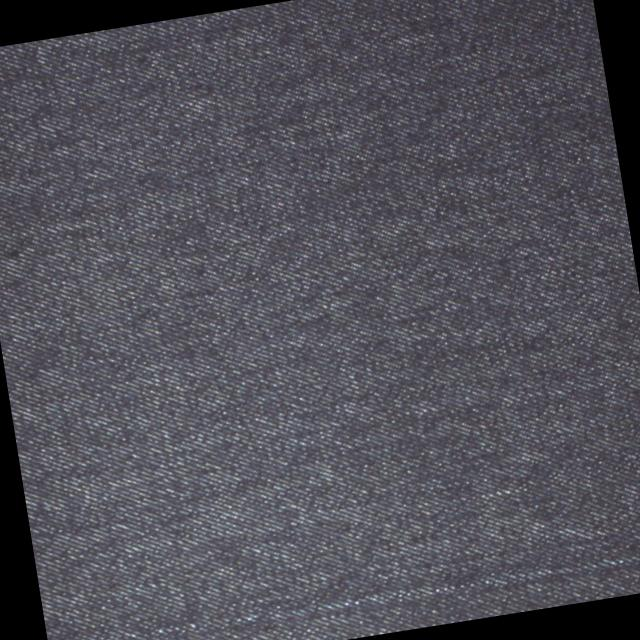Warp_Weft: (46, 547, 635, 640)
